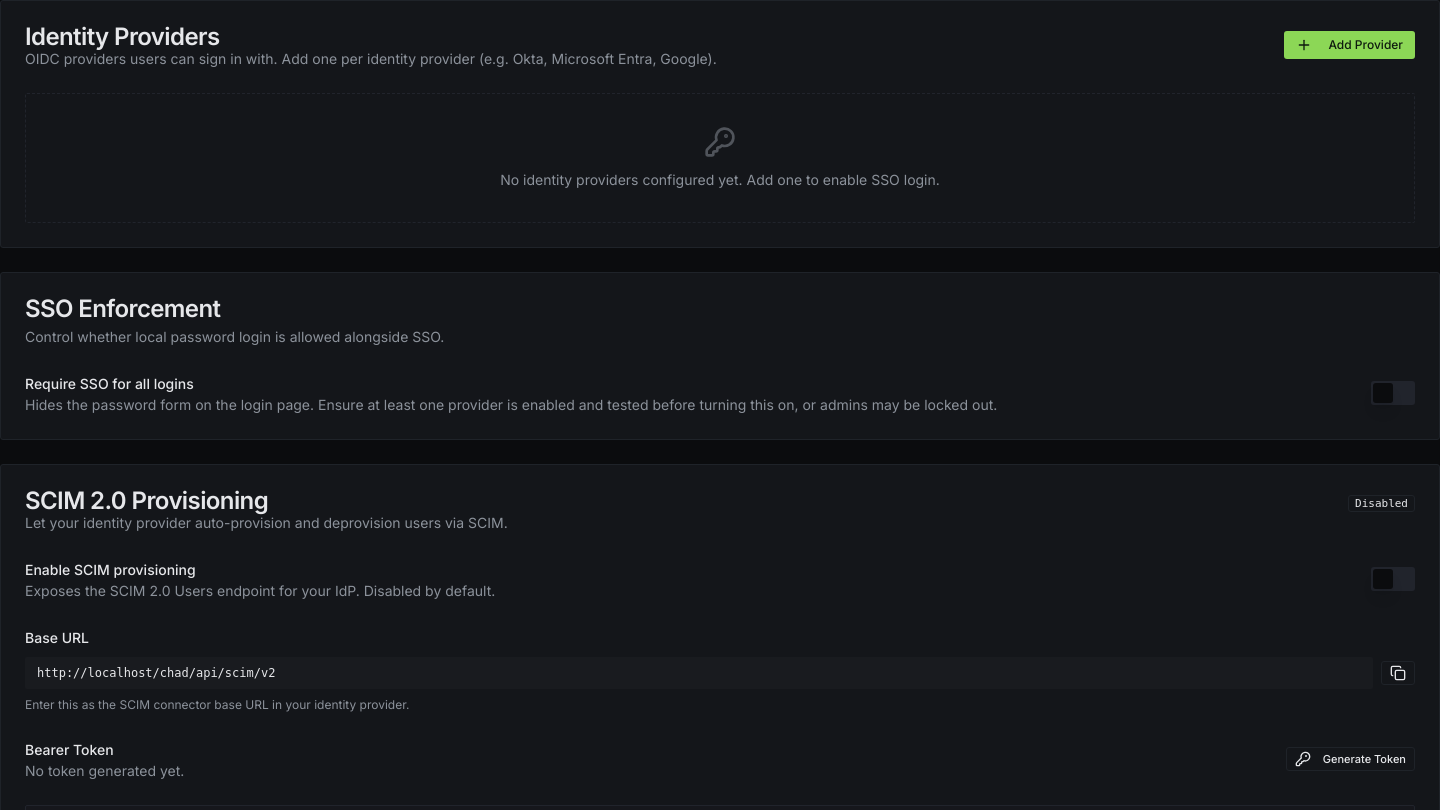
Test: SCIM panel › opens the one-time reveal dialog with the token after Generate Token
Click the button "Generate Token" at (1350, 759), box [1286,747,1415,771]
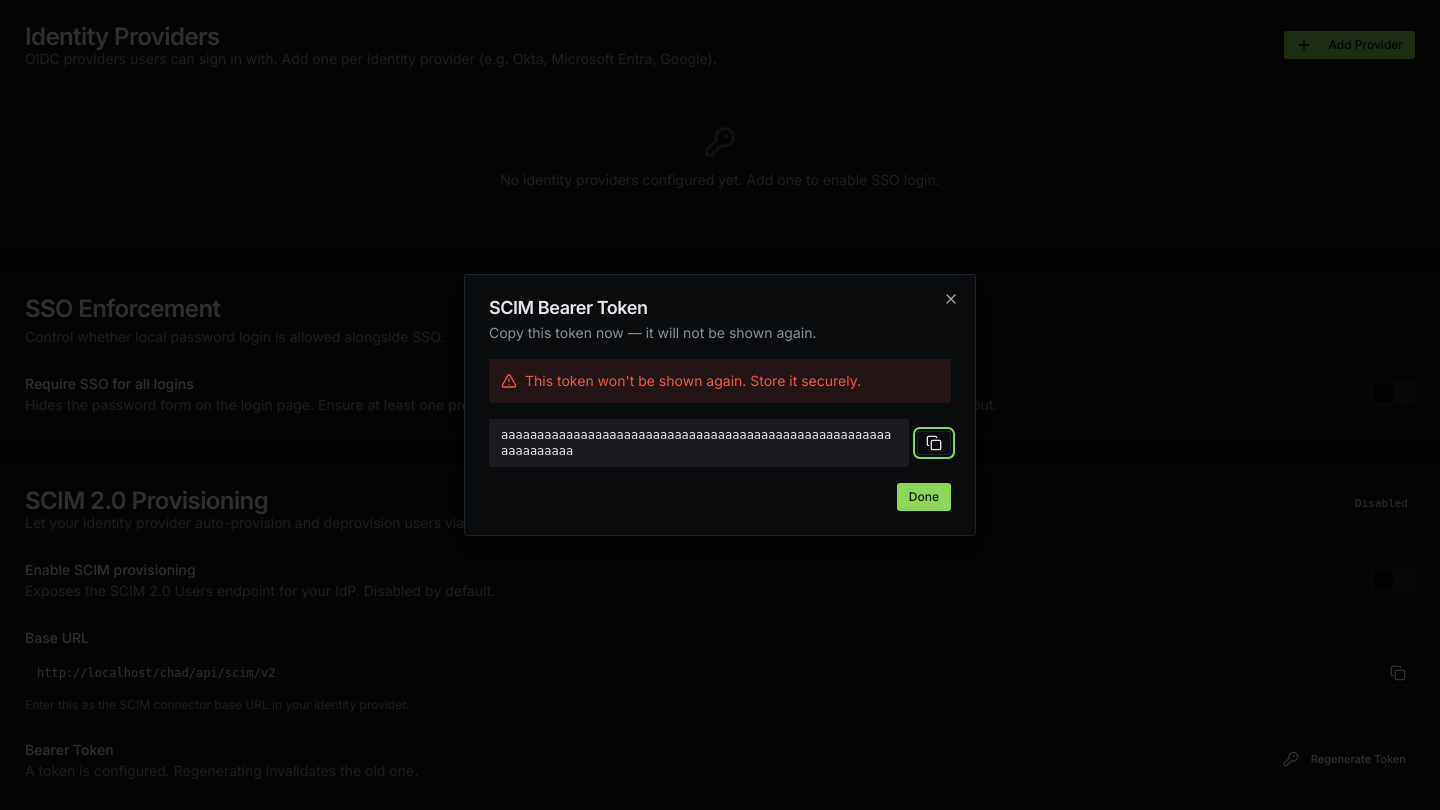
Now the text "This token won't be shown again. Store it securely." is shown, box [525,371,861,391]
